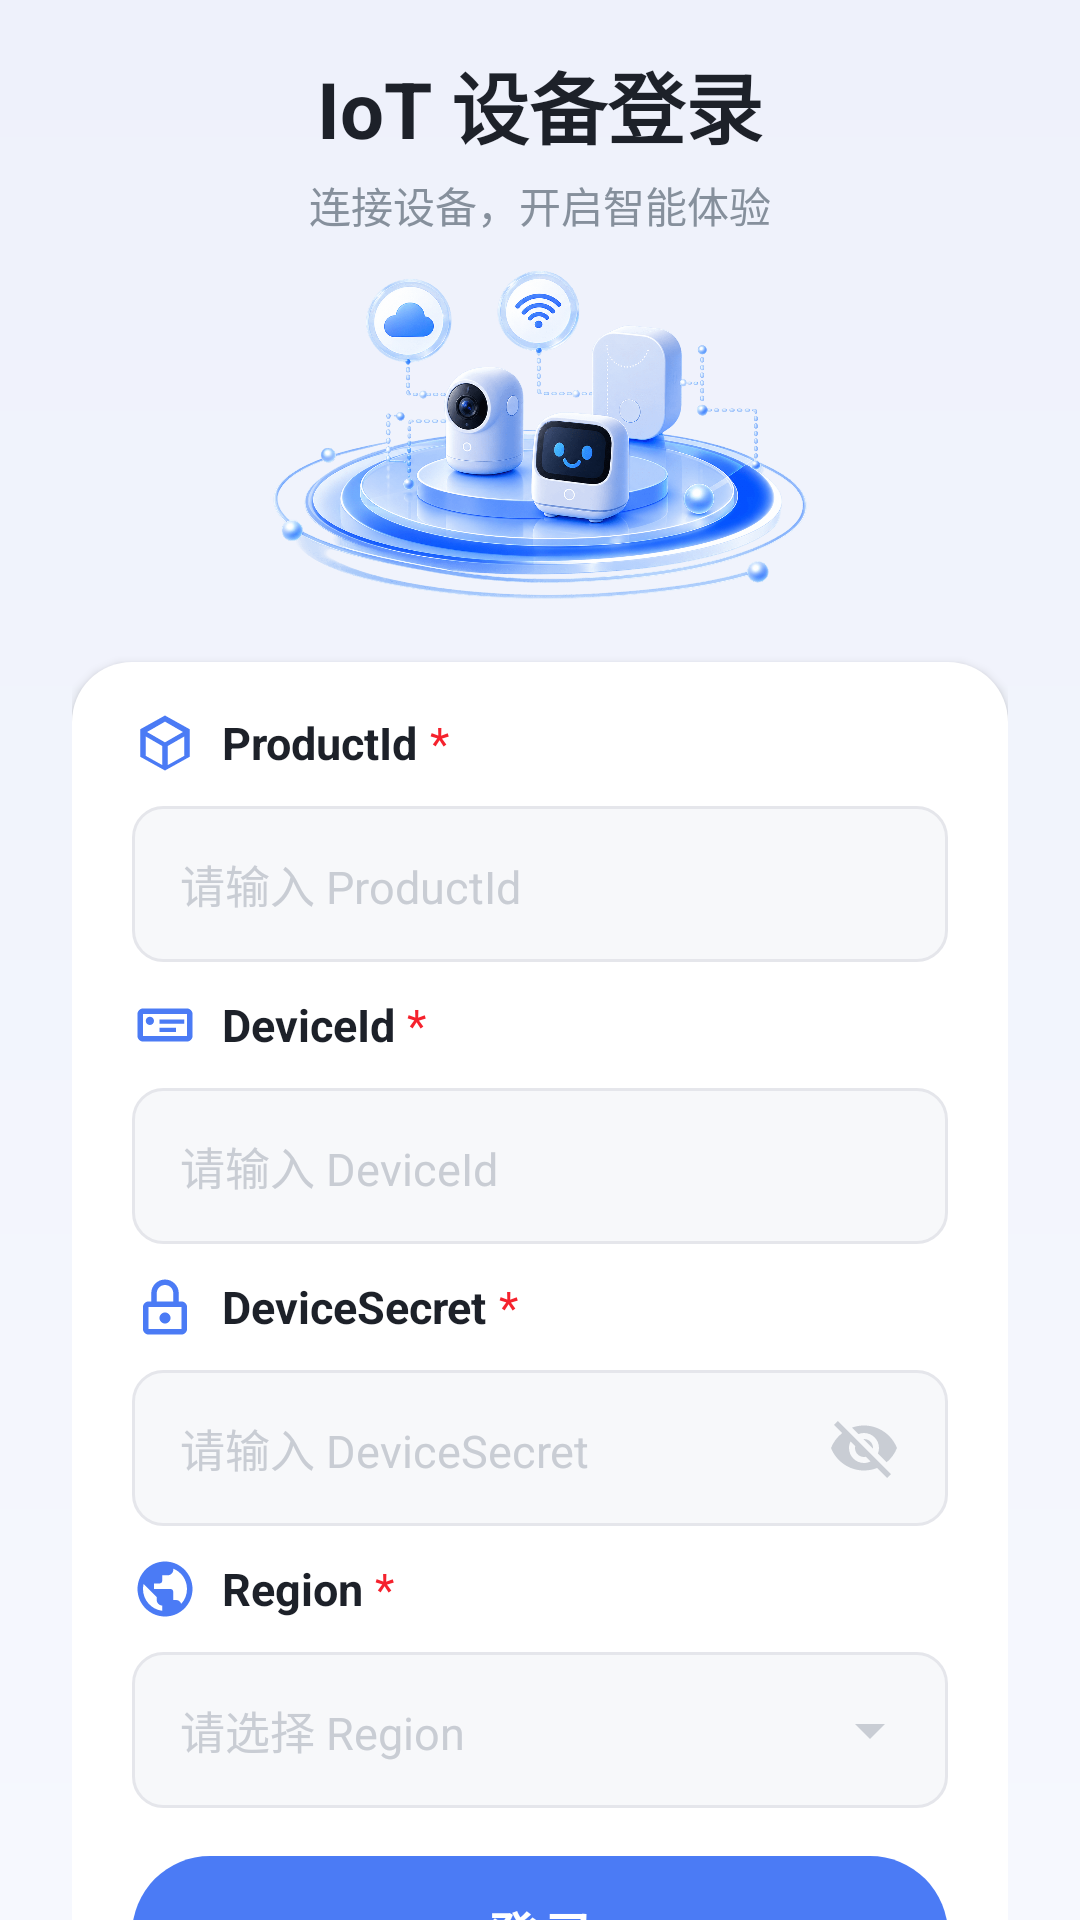

Where to tap for icons on this 1080 × 1920 app screen, as point (x, y):
login arrow down: point (870, 1731)
login device: point (165, 1025)
login eye toggle: point (864, 1449)
login lock: point (165, 1307)
login product: point (165, 743)
